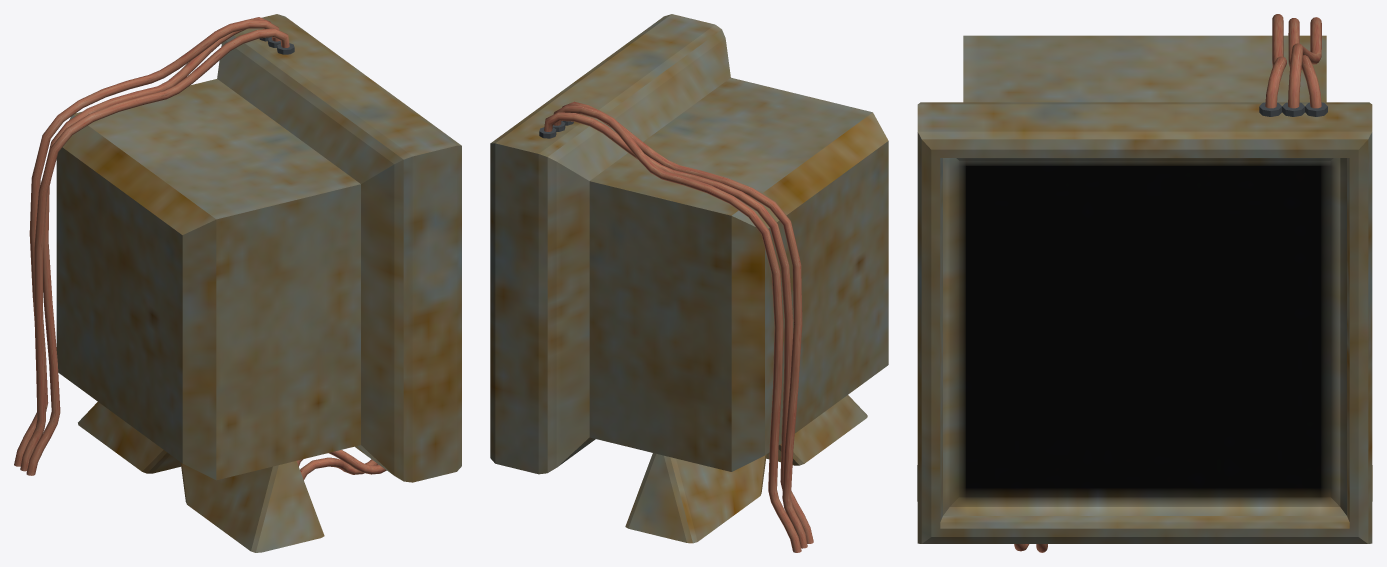
File: Monitor.fbx
3 renders of one model, left to right at view 1: azimuth 30°, elevation 25°; view 2: azimuth 150°, elevation 25°; view 3: azimuth 270°, elevation 25°, orthographic. The views are drawn at different scales.
Parts seen in each view (by area): view 1: Monitor, Cables.002, Cables.001, Cables, Cables.003, Cables.004; view 2: Monitor, Cables.001, Cables.002, Cables; view 3: Monitor, Cables.001, Cables.002, Cables.
Part boxes in pixels (x1,y1,x2,y2): Monitor: [56, 14, 461, 552]; Cables.002: [20, 28, 289, 471]; Cables.001: [14, 19, 280, 466]; Cables: [26, 17, 270, 475]; Cables.003: [300, 457, 378, 479]; Cables.004: [296, 450, 386, 474]; Monitor: [490, 14, 888, 543]; Cables.001: [553, 105, 801, 552]; Cables.002: [562, 101, 807, 548]; Cables: [544, 112, 813, 543]; Monitor: [917, 35, 1372, 543]; Cables.001: [1288, 17, 1321, 108]; Cables.002: [1265, 14, 1286, 108]; Cables: [1288, 18, 1321, 108].
Size of the model in its own units: 37.8 by 48.51 by 39.81.
